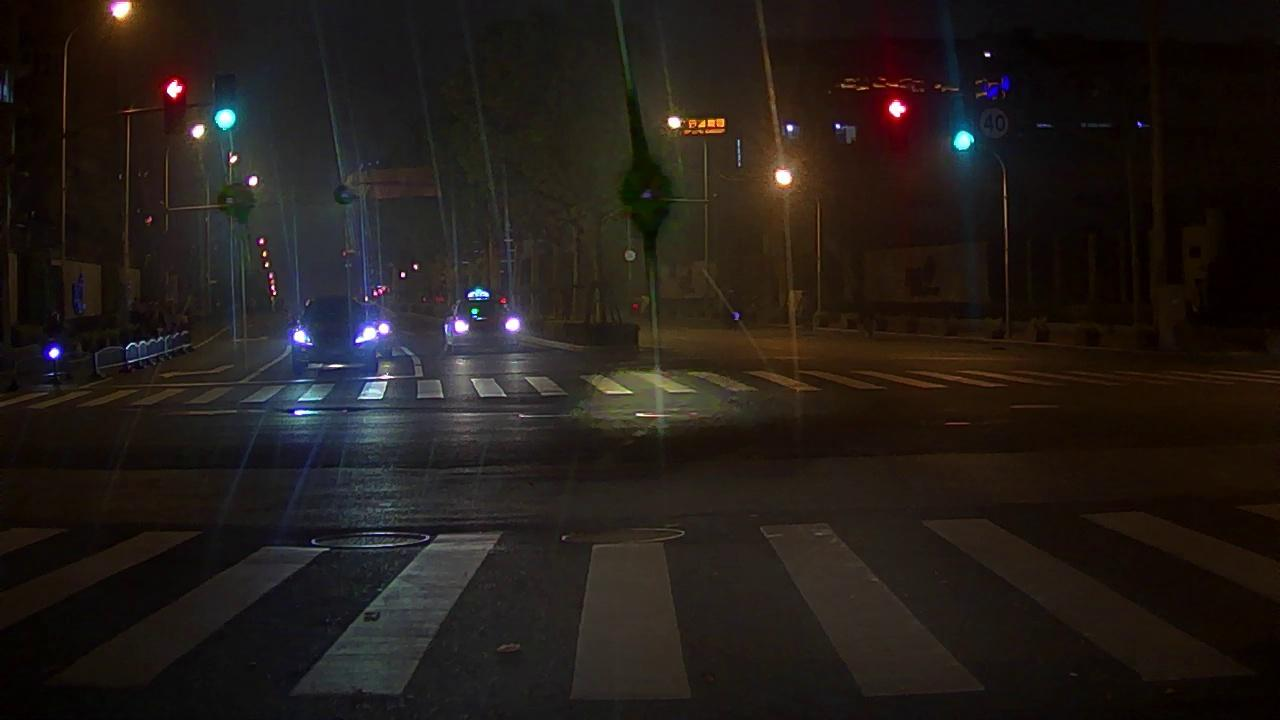traffic_light: (217, 73, 234, 130), (167, 80, 184, 128), (953, 130, 973, 153), (887, 98, 907, 117)
